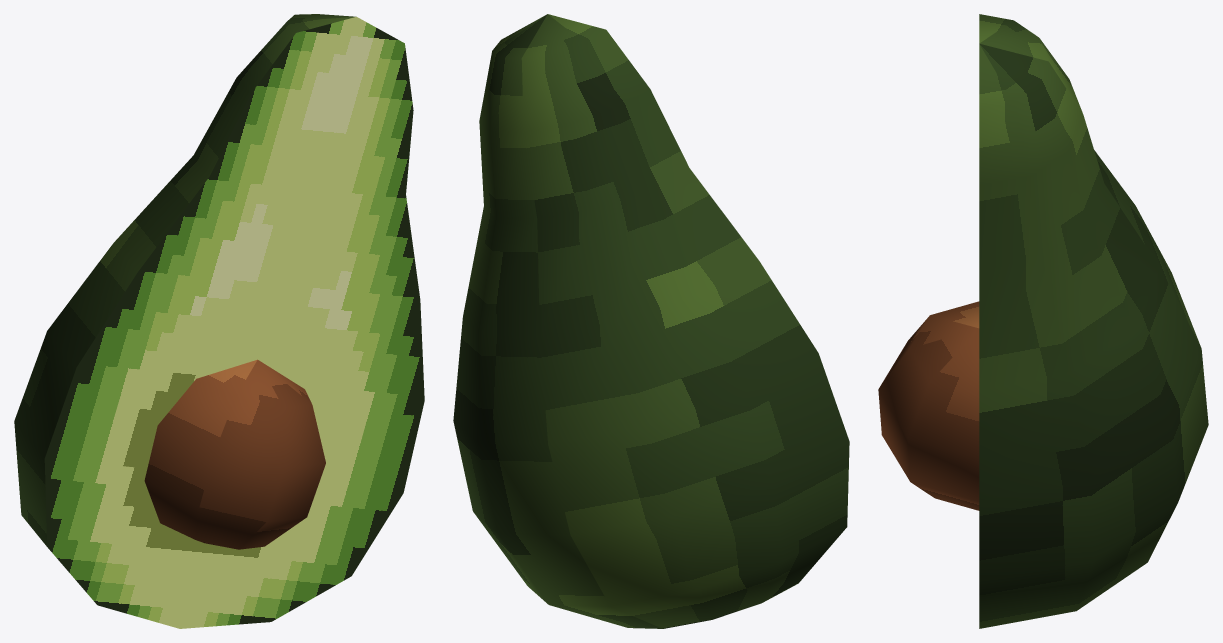
The model's file is food3-avocado.glb.
3 views of the same model, side by side, from view 1: azimuth 30°, elevation 25°; view 2: azimuth 150°, elevation 25°; view 3: azimuth 270°, elevation 25° (orthographic). The views are drawn at different scales.
Parts seen in each view (by area): view 1: food3.avocado; view 2: food3.avocado; view 3: food3.avocado.
Boxes of the visible parts, x1=… form: food3.avocado: x1=14, y1=14, x2=424, y2=628; food3.avocado: x1=453, y1=14, x2=849, y2=628; food3.avocado: x1=878, y1=14, x2=1208, y2=628.
Size of the model in its own units: 1.23 by 1.81 by 0.8782.
Materials: 3 (3 with a texture image).
